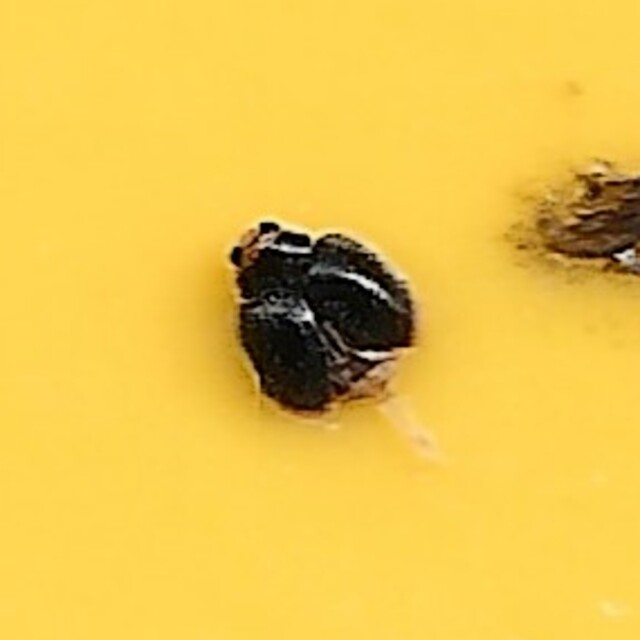Coleoptera: (225, 218, 415, 422)
